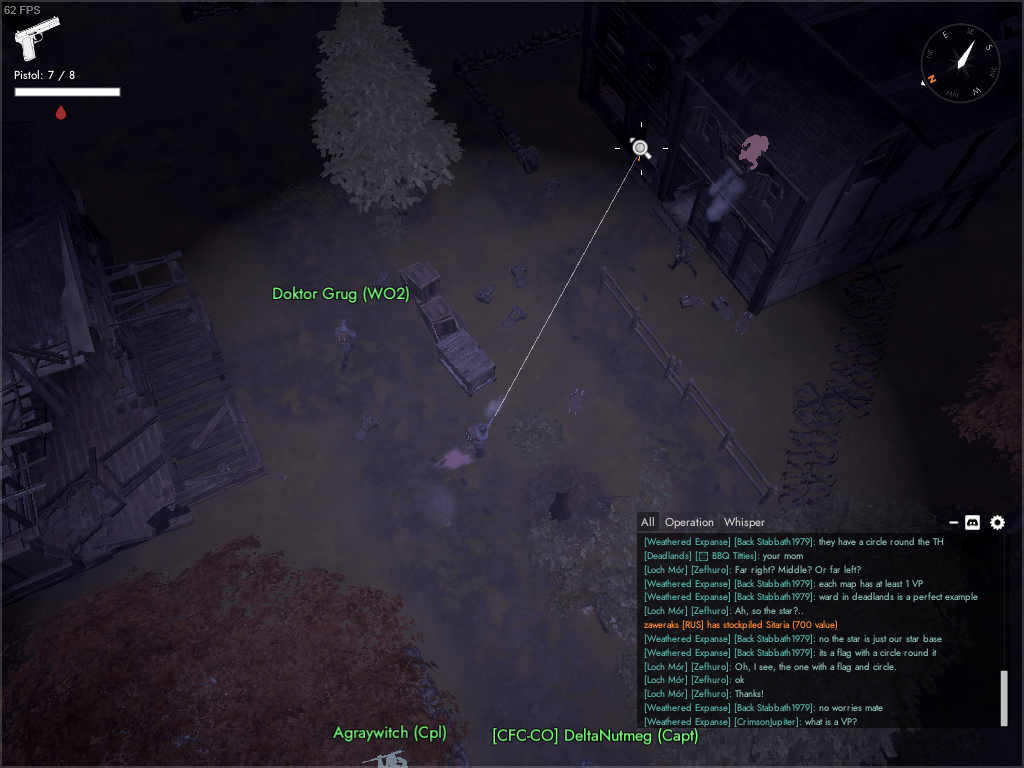backpack: (350, 413, 384, 449), (727, 307, 762, 339), (562, 385, 592, 418), (710, 293, 740, 323), (499, 304, 529, 333), (471, 276, 499, 306), (675, 287, 709, 311), (505, 263, 533, 292), (539, 174, 565, 201), (368, 266, 391, 293)
colonial: (666, 234, 701, 279), (735, 130, 770, 172)
player: (330, 317, 360, 372), (463, 419, 494, 463), (358, 746, 413, 768), (575, 757, 605, 768)
wire: (758, 375, 869, 533), (815, 268, 912, 424)
